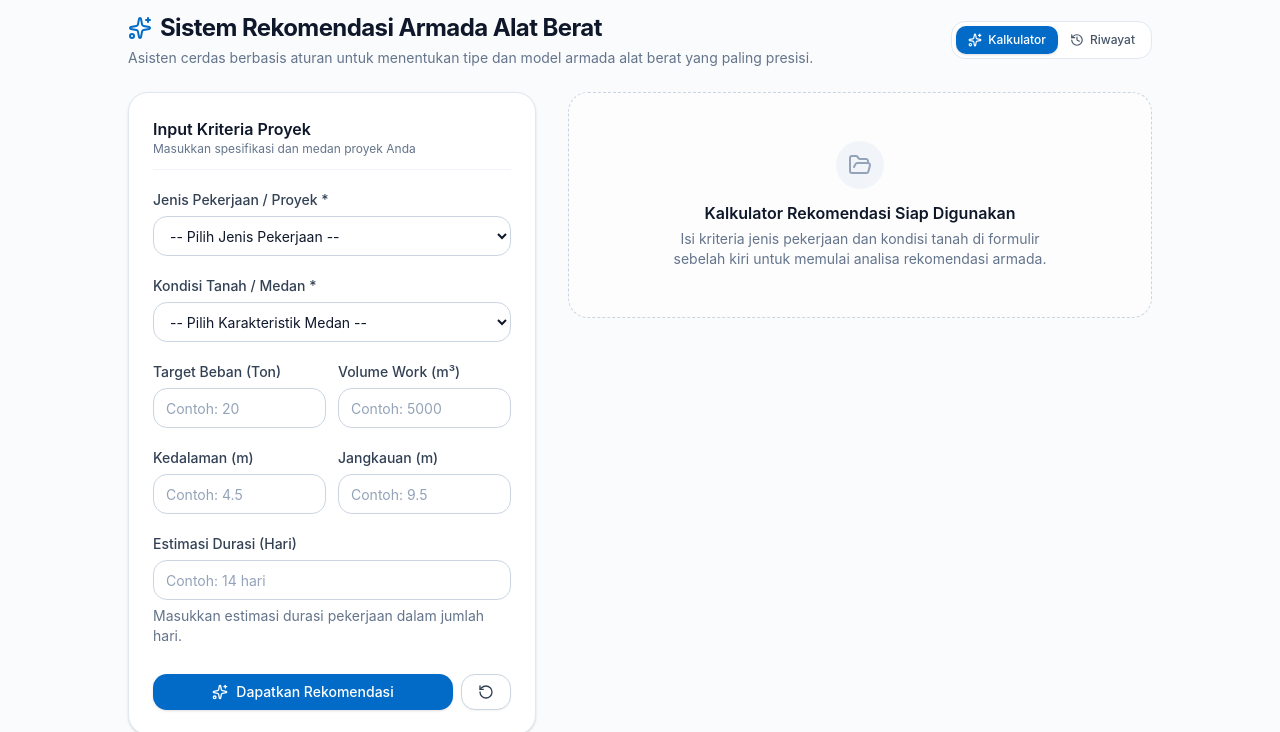
Recommendation UI Suite › handles API error when recommendation submission fails
Select "Galian Basah & Drainase" in the dropdown labelled "Jenis Pekerjaan / Proyek *" at (332, 236), box [153,216,511,256]
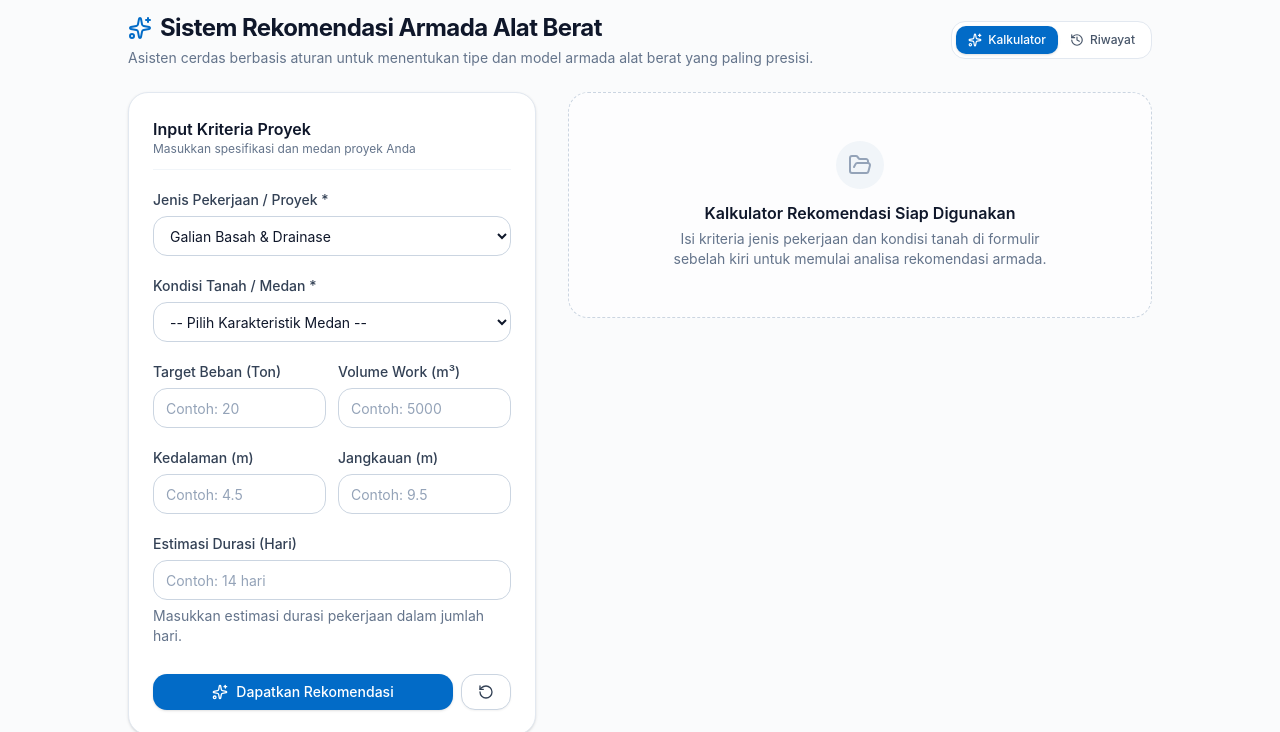
Select "Lumpur / Rawa / Basah" in the dropdown labelled "Kondisi Tanah / Medan *" at (332, 322), box [153,302,511,342]
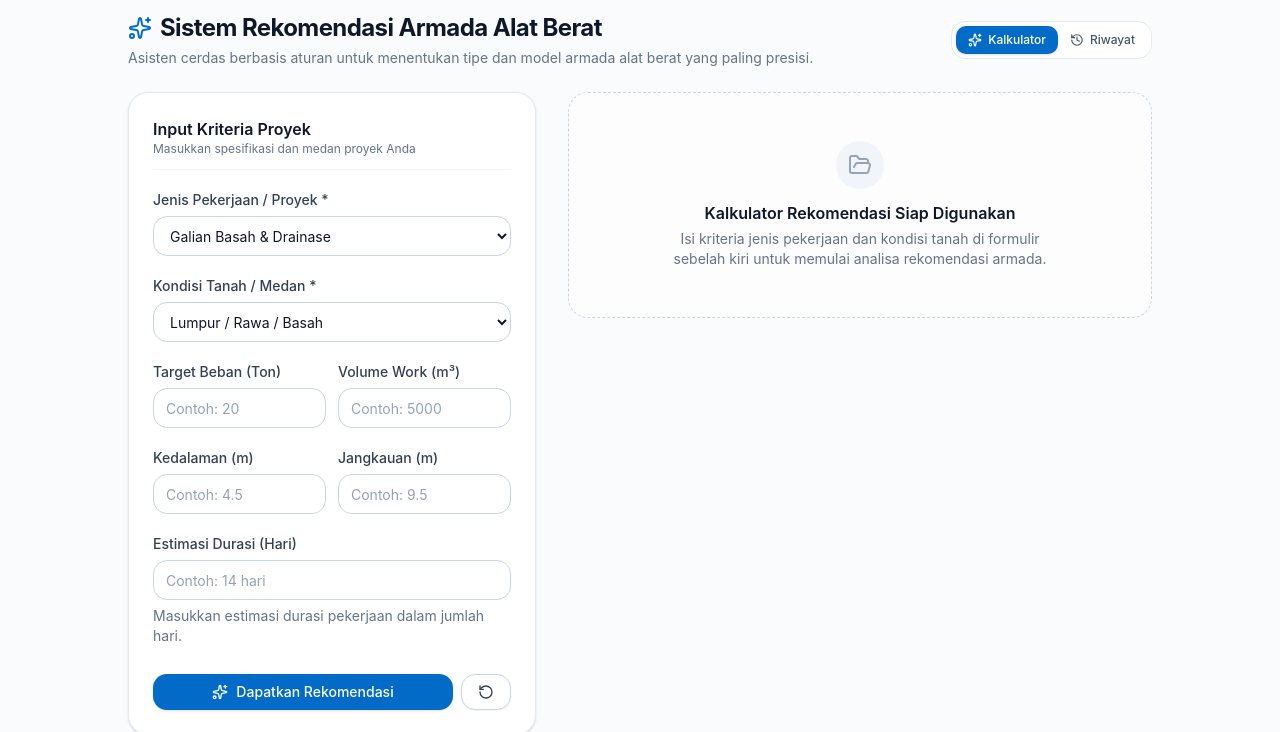
Click the button "Dapatkan Rekomendasi".
click(303, 692)  # box [153,674,453,710]
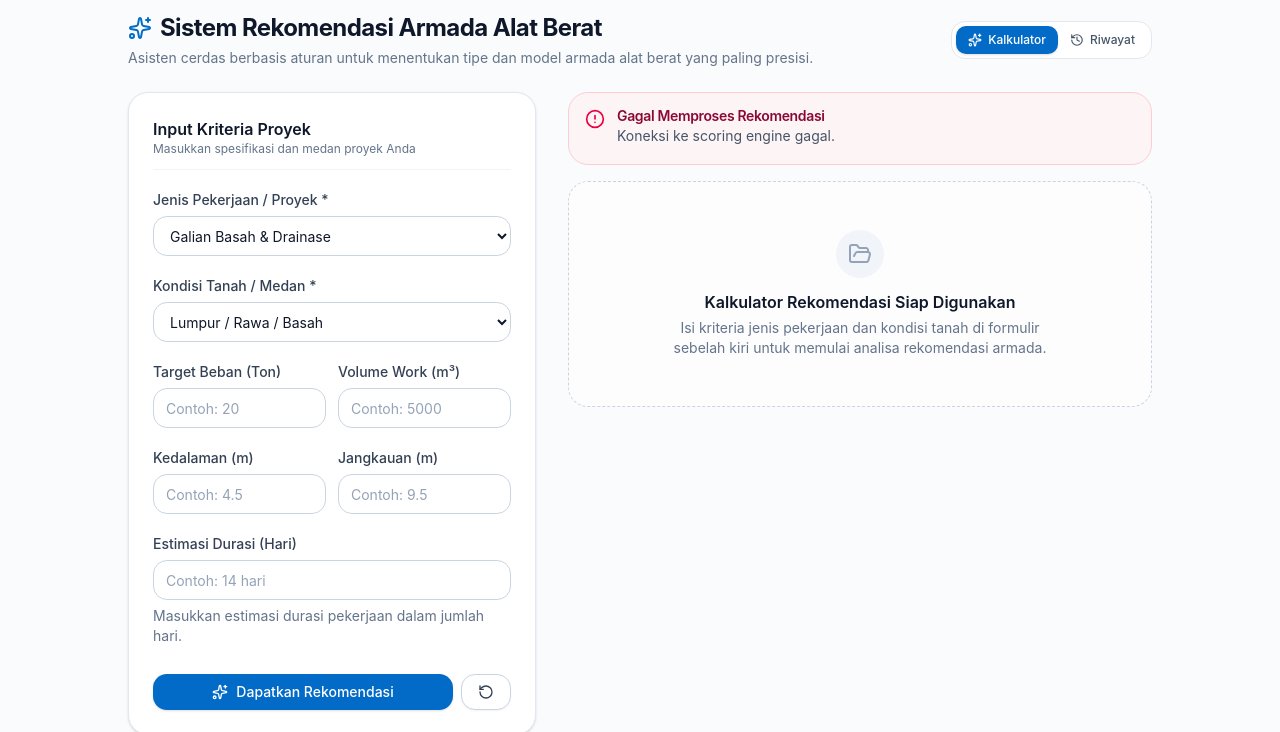
Result: the text "Koneksi ke scoring engine gagal." is shown at [617,127,835,144]
